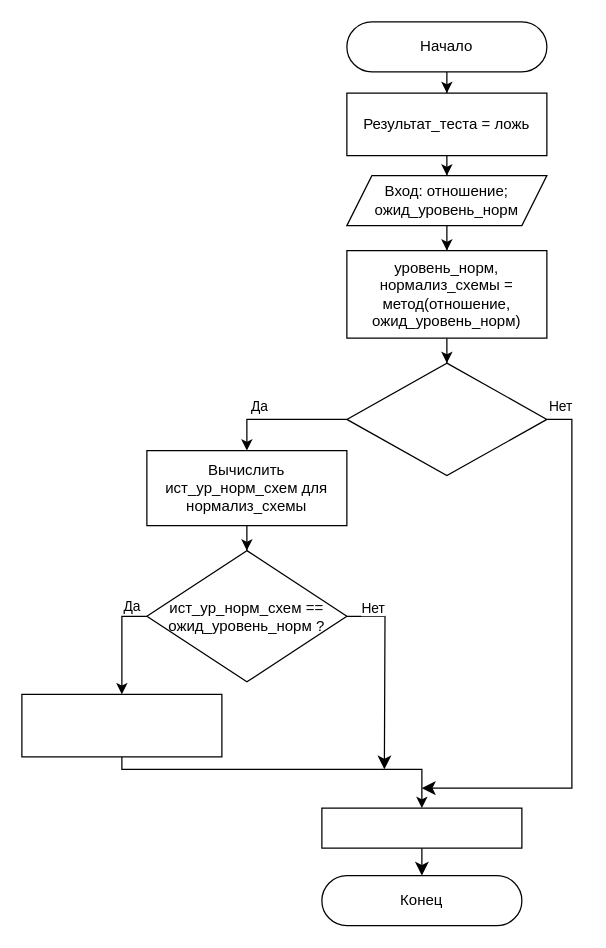
The diagram is 606 pixels wide and 948 high, and some of its shapes have lost their labels. Each missing label, with the box of its shape:
Вернуть результат_теста: (321, 807, 522, 848)
Результат_теста = истина: (21, 693, 222, 757)
уровень_норм == ист_уровень_норм ?: (346, 362, 547, 476)
